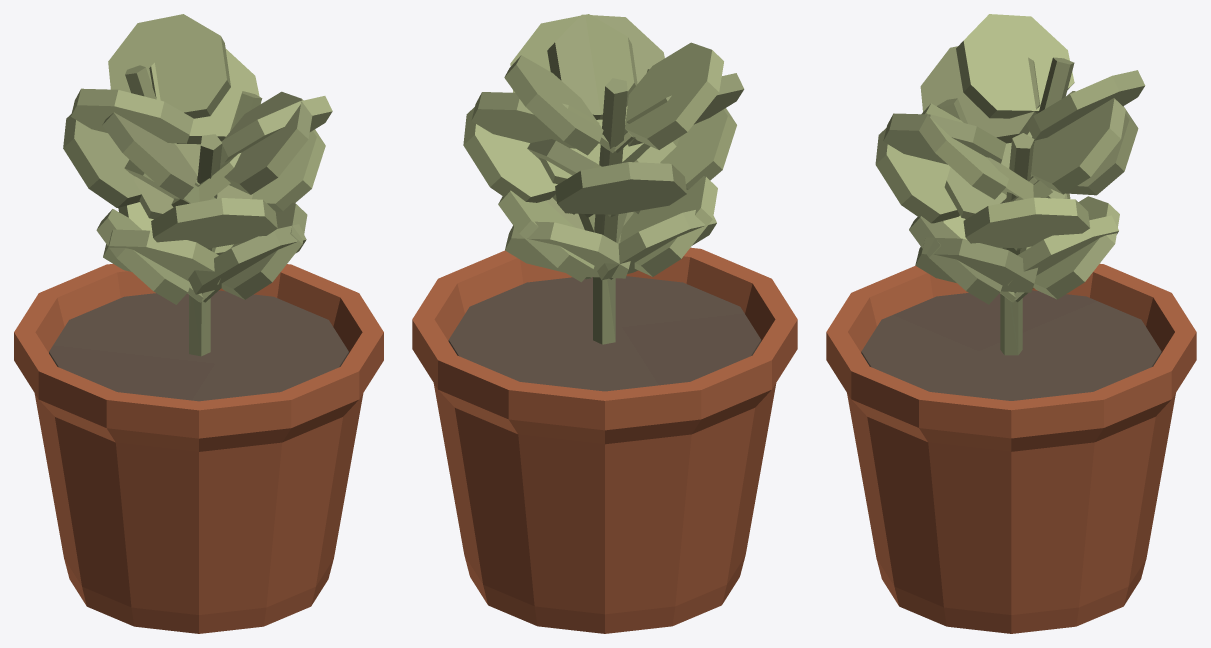
The model's file is new-luciae.glb.
3 renders of one model, left to right at view 1: azimuth 30°, elevation 25°; view 2: azimuth 150°, elevation 25°; view 3: azimuth 270°, elevation 25°, orthographic. The views are drawn at different scales.
Visible parts, largest first — view 1: new-luciae/review-terra-vessel, new-luciae/review-rooted-soil, new-luciae/leaf-024, new-luciae/leaf-033, new-luciae/leaf-039, new-luciae/leaf-020, new-luciae/leaf-026, new-luciae/leaf-037, new-luciae/leaf-018, new-luciae/leaf-003, new-luciae/leaf-029, new-luciae/leaf-031 (+10 smaller); view 2: new-luciae/review-terra-vessel, new-luciae/review-rooted-soil, new-luciae/leaf-026, new-luciae/leaf-020, new-luciae/leaf-024, new-luciae/leaf-039, new-luciae/leaf-007, new-luciae/leaf-011, new-luciae/leaf-018, new-luciae/leaf-005, new-luciae/leaf-033, new-luciae/leaf-013 (+8 smaller); view 3: new-luciae/review-terra-vessel, new-luciae/review-rooted-soil, new-luciae/leaf-026, new-luciae/leaf-013, new-luciae/leaf-007, new-luciae/leaf-033, new-luciae/leaf-031, new-luciae/leaf-037, new-luciae/leaf-039, new-luciae/leaf-024, new-luciae/leaf-011, new-luciae/leaf-005 (+8 smaller).
Part boxes in pixels (bbox=[...]): new-luciae/review-terra-vessel: bbox=[14, 264, 383, 633]; new-luciae/review-rooted-soil: bbox=[49, 290, 348, 401]; new-luciae/leaf-024: bbox=[108, 14, 230, 118]; new-luciae/leaf-033: bbox=[151, 198, 277, 248]; new-luciae/leaf-039: bbox=[220, 91, 312, 194]; new-luciae/leaf-020: bbox=[63, 114, 141, 207]; new-luciae/leaf-026: bbox=[71, 88, 193, 143]; new-luciae/leaf-037: bbox=[102, 112, 197, 199]; new-luciae/leaf-018: bbox=[103, 229, 220, 284]; new-luciae/leaf-003: bbox=[188, 224, 306, 294]; new-luciae/leaf-029: bbox=[96, 209, 190, 304]; new-luciae/leaf-031: bbox=[221, 202, 307, 299]; new-luciae/review-terra-vessel: bbox=[412, 247, 797, 633]; new-luciae/review-rooted-soil: bbox=[448, 276, 761, 391]; new-luciae/leaf-026: bbox=[625, 42, 723, 149]; new-luciae/leaf-020: bbox=[555, 162, 686, 214]; new-luciae/leaf-024: bbox=[504, 55, 603, 155]; new-luciae/leaf-039: bbox=[547, 14, 664, 119]; new-luciae/leaf-007: bbox=[463, 107, 557, 202]; new-luciae/leaf-011: bbox=[510, 14, 637, 119]; new-luciae/leaf-018: bbox=[620, 176, 717, 276]; new-luciae/leaf-005: bbox=[505, 221, 630, 278]; new-luciae/leaf-033: bbox=[660, 108, 736, 189]; new-luciae/leaf-013: bbox=[471, 92, 599, 148]; new-luciae/review-terra-vessel: bbox=[826, 263, 1196, 633]; new-luciae/review-rooted-soil: bbox=[861, 290, 1161, 400]; new-luciae/leaf-026: bbox=[956, 14, 1074, 118]; new-luciae/leaf-013: bbox=[1030, 98, 1125, 194]; new-luciae/leaf-007: bbox=[963, 197, 1090, 248]; new-luciae/leaf-033: bbox=[875, 128, 959, 223]; new-luciae/leaf-031: bbox=[915, 237, 1037, 292]; new-luciae/leaf-037: bbox=[920, 46, 1040, 143]; new-luciae/leaf-039: bbox=[883, 113, 1005, 164]; new-luciae/leaf-024: bbox=[1027, 70, 1145, 140]; new-luciae/leaf-011: bbox=[919, 103, 1008, 199]; new-luciae/leaf-005: bbox=[1033, 196, 1119, 299].
Size of the model in its own units: 0.19 by 0.2947 by 0.19.
Materials: 3 (3 with a texture image).
